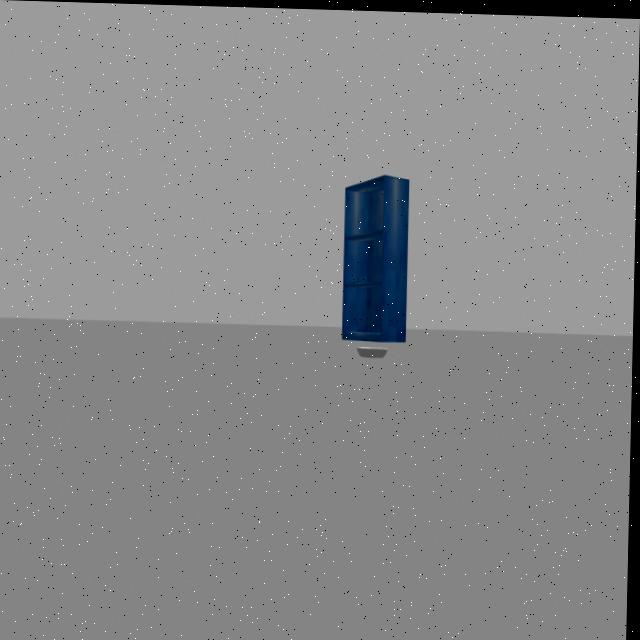bowl: (348, 341, 395, 357)
shelf: (335, 157, 417, 340)
